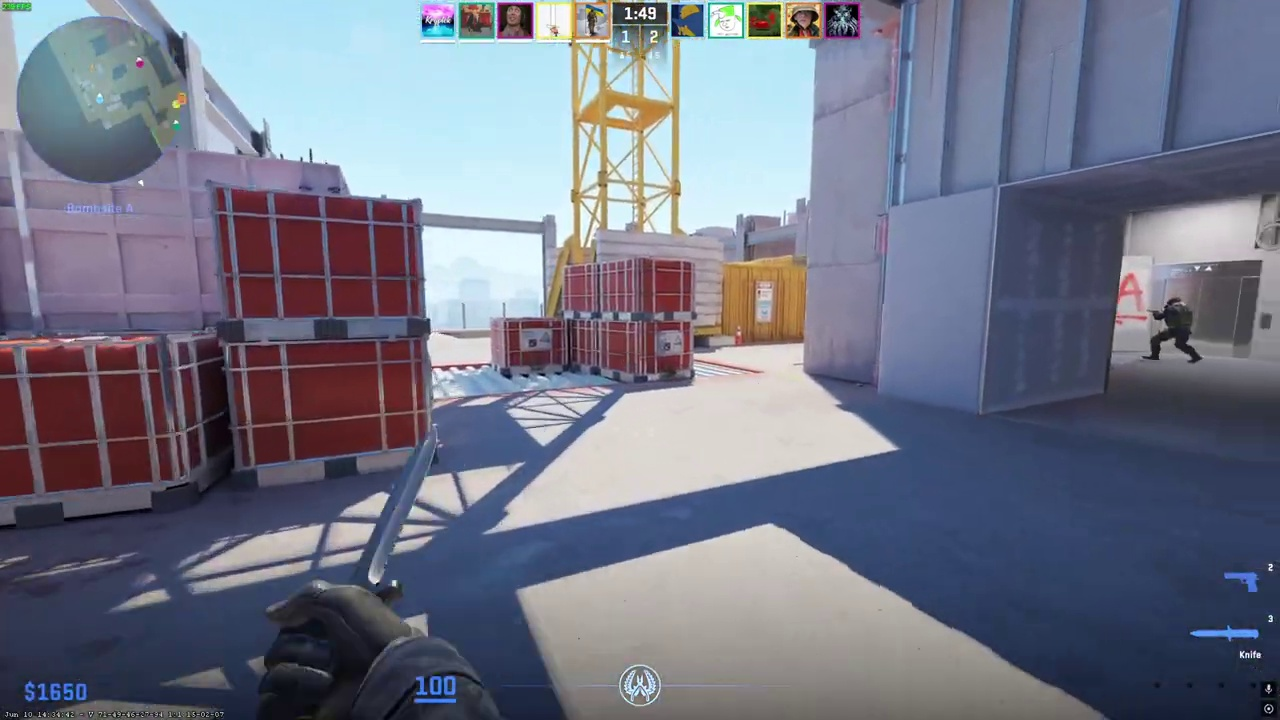CT: (1147, 297, 1201, 364)
